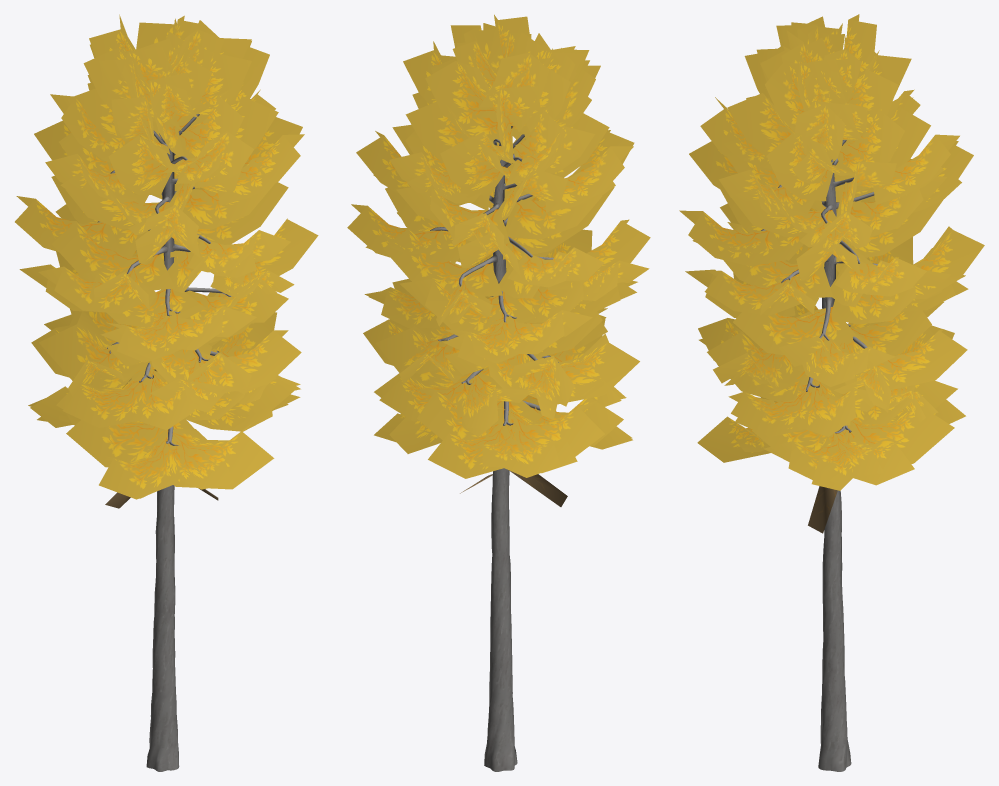
The model's file is TreeVariation.fbx.
The picture shows the model from 3 angles, left to right: view 1: azimuth 30°, elevation 25°; view 2: azimuth 150°, elevation 25°; view 3: azimuth 270°, elevation 25°; orthographic projection.
Parts seen in each view (by area): view 1: leaves_1, bark_base_0; view 2: leaves_1, bark_base_0, branch_2; view 3: leaves_1, bark_base_0, branch_2.
Part boxes in pixels (x1,y1,x2,y2): leaves_1: [15, 14, 318, 499]; bark_base_0: [97, 113, 231, 771]; leaves_1: [347, 14, 650, 478]; bark_base_0: [430, 126, 558, 771]; branch_2: [460, 470, 567, 506]; leaves_1: [679, 14, 984, 490]; bark_base_0: [761, 140, 877, 771]; branch_2: [808, 486, 837, 533].
Size of the model in its own units: 509 by 1369 by 517.
